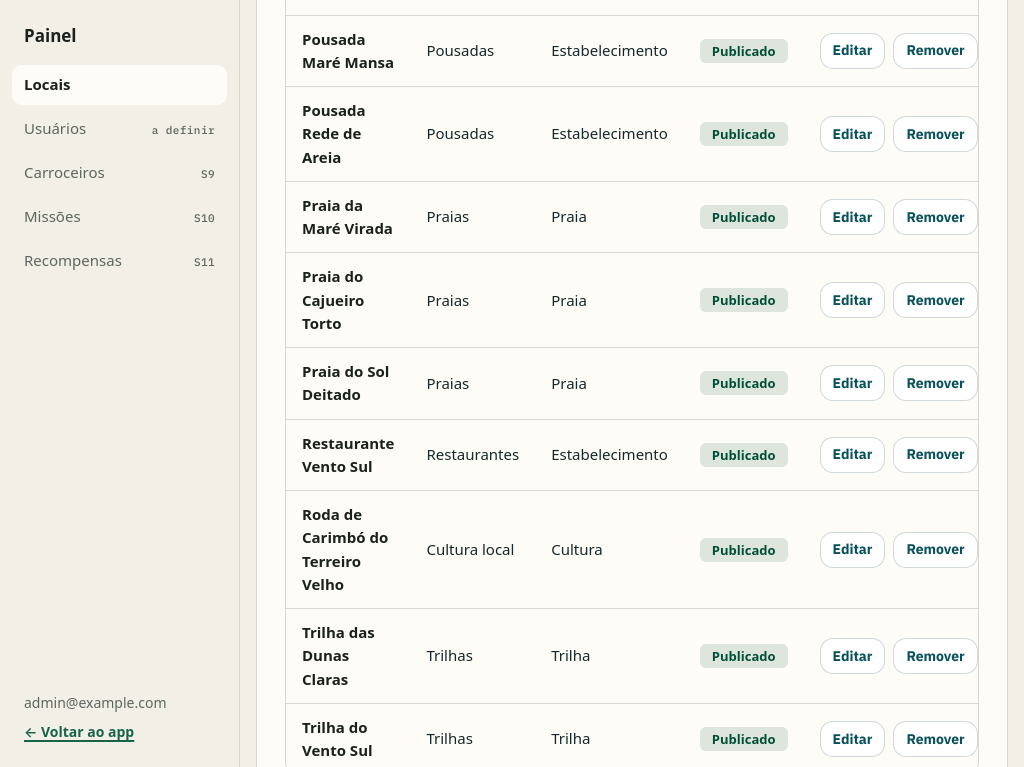
lista de locais › remove depois de confirmar (o local some do público e fica na lista) e restaura
(page scrolled)
Step 1. Click the button with aria-label "Remover Praia do Sol Deitado" → [936, 383], box x1=893 y1=365 x2=978 y2=401
(page scrolled)
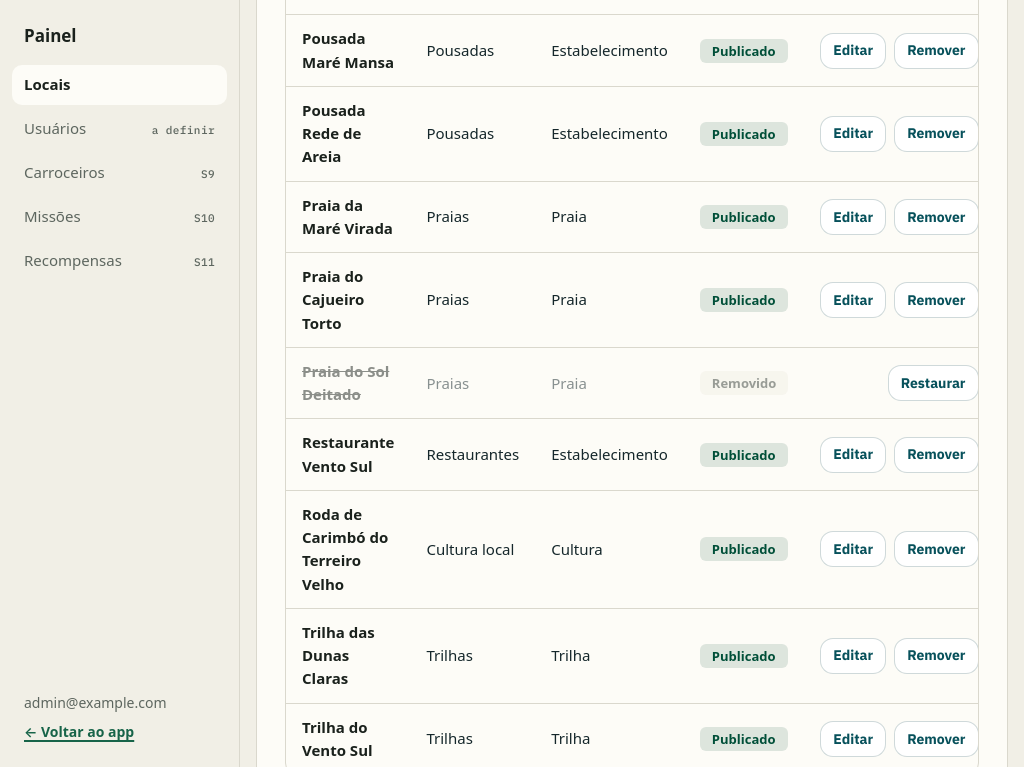
Expected: the text "Removido" is shown, x1=700 y1=371 x2=788 y2=395
Step 2. Click the button with aria-label "Restaurar Praia do Sol Deitado" → [933, 383], box x1=888 y1=365 x2=978 y2=401
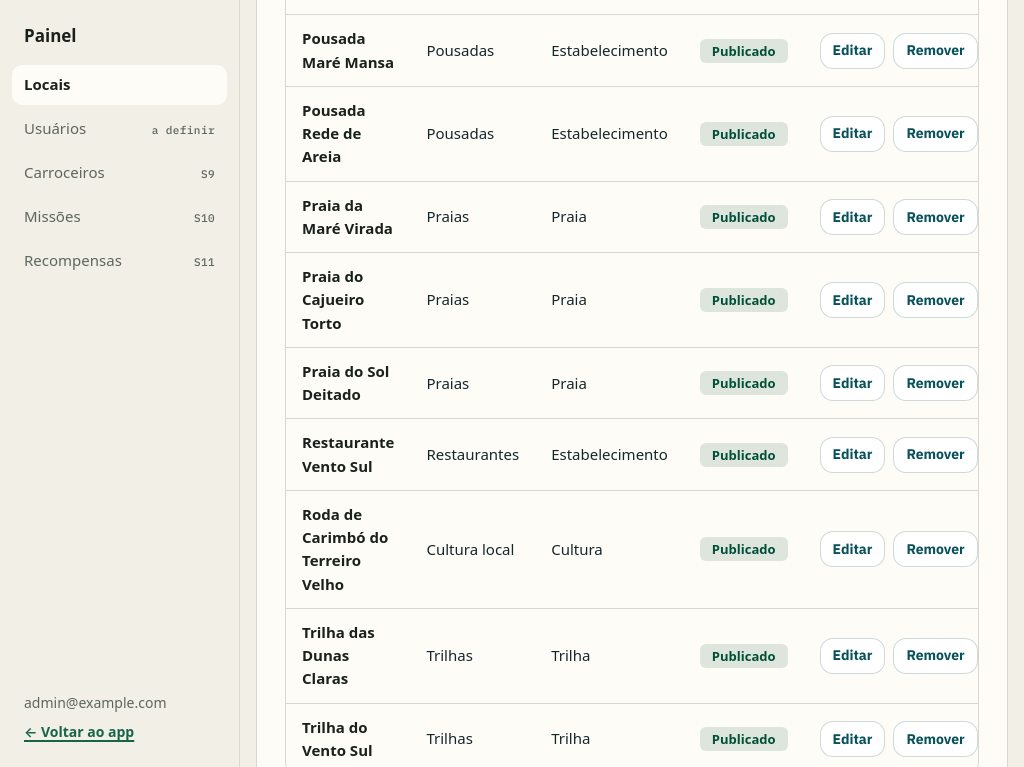
Expected: the 5th text "Publicado" is shown, x1=700 y1=371 x2=788 y2=395
